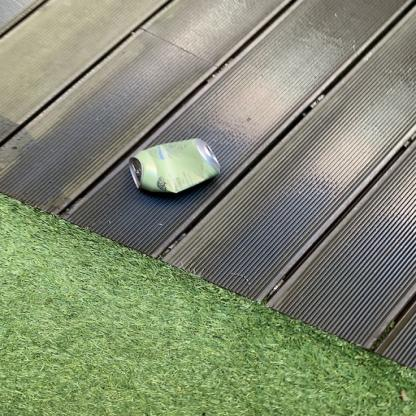Aerosols: (123, 136, 235, 206)
